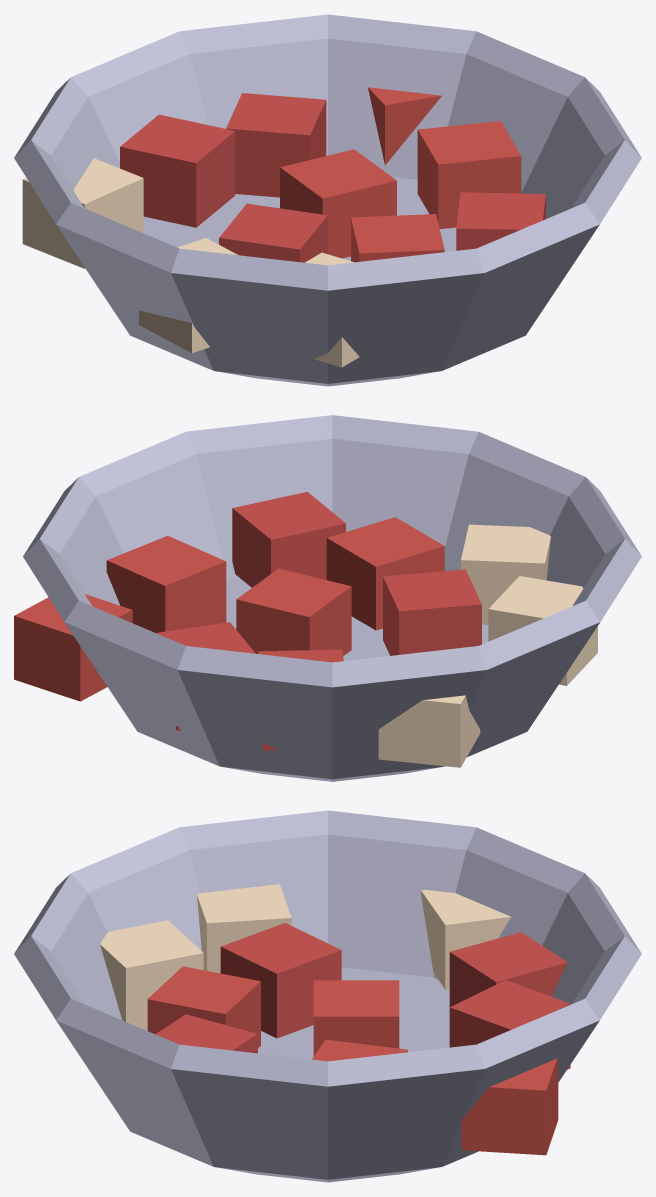
Rendered from sambal-raw.glb.
The picture shows the model from 3 angles, top to bottom: view 1: azimuth 30°, elevation 25°; view 2: azimuth 150°, elevation 25°; view 3: azimuth 270°, elevation 25°; orthographic projection.
Visible parts, largest first — view 1: sambal-raw; view 2: sambal-raw; view 3: sambal-raw.
Boxes of the visible parts, x1,y1,x2,y2 form: sambal-raw: (14, 14, 641, 386); sambal-raw: (14, 415, 641, 781); sambal-raw: (14, 810, 641, 1182).
Size of the model in its own units: 0.22 by 0.072 by 0.22.
Materials: 1 (1 with a texture image).
